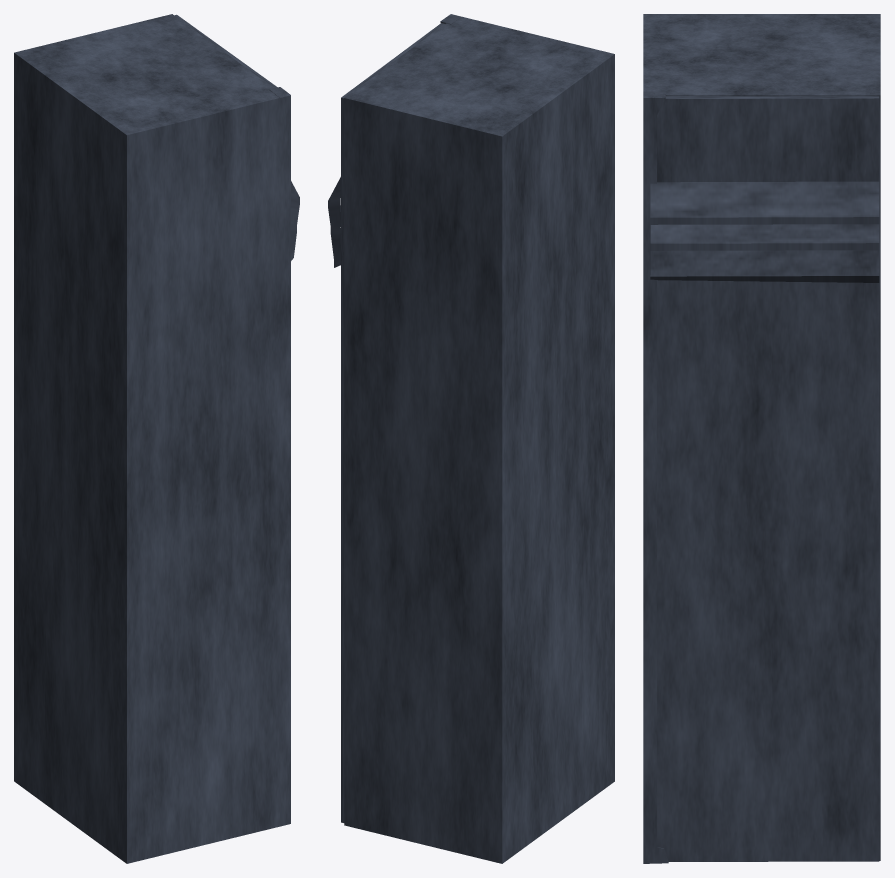
File: Shafka.fbx
3 renders of one model, left to right at view 1: azimuth 30°, elevation 25°; view 2: azimuth 150°, elevation 25°; view 3: azimuth 270°, elevation 25°, orthographic. The views are drawn at different scales.
Visible parts, largest first — view 1: Shafka, Shafka Door; view 2: Shafka, Shafka Door; view 3: Shafka Door, Shafka.
Boxes of the visible parts, x1,y1,x2,y2 form: Shafka: [14, 14, 290, 863]; Shafka Door: [174, 14, 299, 260]; Shafka: [344, 14, 614, 863]; Shafka Door: [328, 23, 444, 822]; Shafka Door: [650, 96, 879, 861]; Shafka: [643, 14, 880, 863].
Bounding box in the file's own units: 158 × 623 × 175.
2 materials, 2 textured.
